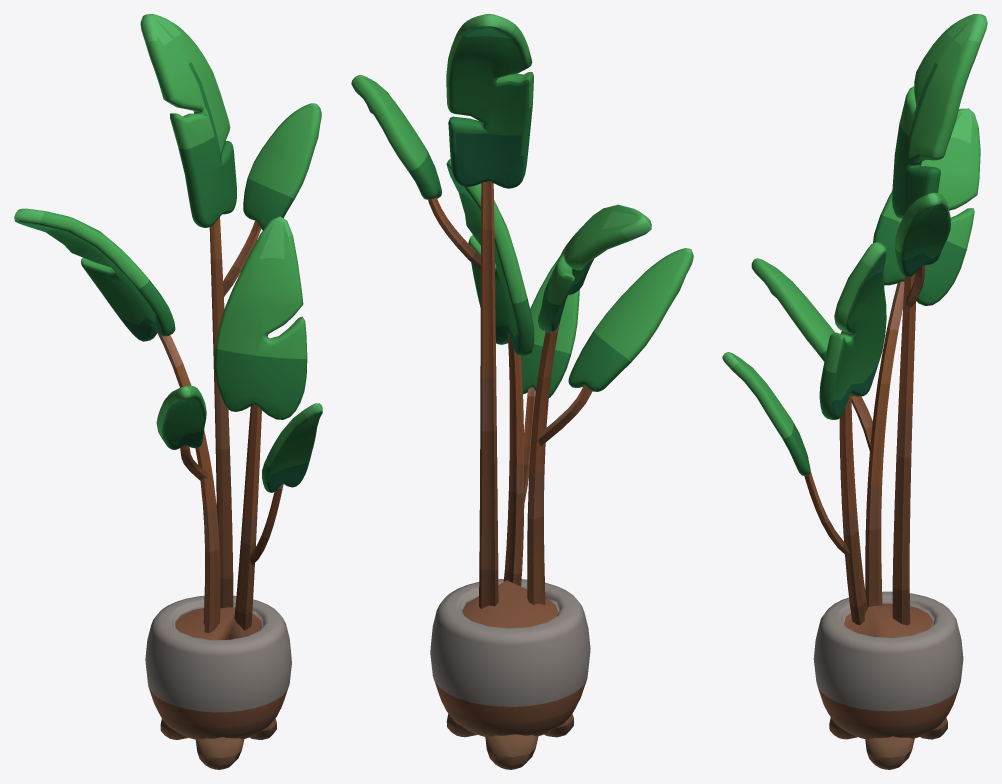
The model's file is planta_ave_do_paraiso_pacote.glb.
The picture shows the model from 3 angles, left to right: view 1: azimuth 30°, elevation 25°; view 2: azimuth 150°, elevation 25°; view 3: azimuth 270°, elevation 25°; orthographic projection. The views are drawn at different scales.
Parts seen in each view (by area): view 1: planta_ave_do_paraiso_pacote; view 2: planta_ave_do_paraiso_pacote; view 3: planta_ave_do_paraiso_pacote.
Part boxes in pixels (x1,y1,x2,y2): planta_ave_do_paraiso_pacote: (14,14,322,769); planta_ave_do_paraiso_pacote: (351,14,693,769); planta_ave_do_paraiso_pacote: (722,14,987,769).
Bounding box in the file's own units: 0.7651 × 1.79 × 0.5958.
1 material, 1 textured.
